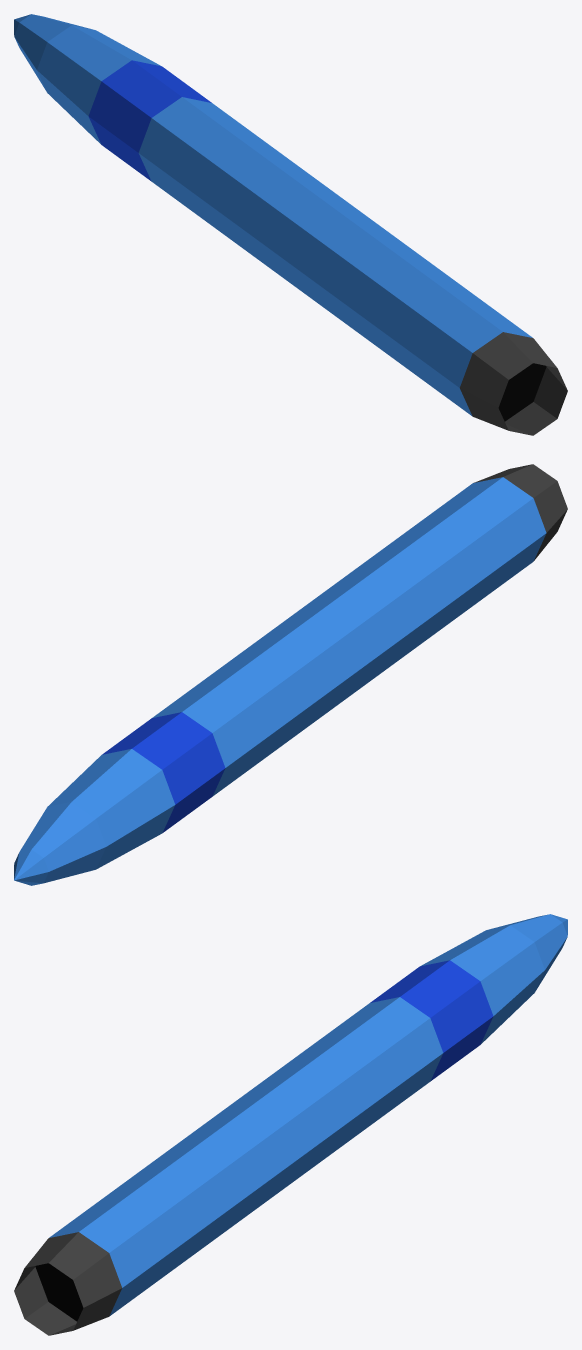
Rendered from weapon.FBX.
3 views of the same model, one above another, from view 1: azimuth 30°, elevation 25°; view 2: azimuth 150°, elevation 25°; view 3: azimuth 330°, elevation 25° (orthographic).
Parts seen in each view (by area): view 1: VIFS001, VIFS003, VIFS002, VIFS004; view 2: VIFS001, VIFS002, VIFS003; view 3: VIFS001, VIFS003, VIFS002, VIFS004.
Boxes of the visible parts, x1=… form: VIFS001: x1=14, y1=14, x2=532, y2=416; VIFS003: x1=460, y1=332, x2=567, y2=435; VIFS002: x1=88, y1=60, x2=211, y2=181; VIFS004: x1=498, y1=363, x2=546, y2=421; VIFS001: x1=14, y1=477, x2=546, y2=885; VIFS002: x1=102, y1=712, x2=225, y2=832; VIFS003: x1=474, y1=464, x2=567, y2=560; VIFS001: x1=49, y1=914, x2=567, y2=1316; VIFS003: x1=14, y1=1232, x2=121, y2=1335; VIFS002: x1=370, y1=960, x2=493, y2=1081; VIFS004: x1=35, y1=1263, x2=83, y2=1321.
Bounding box in the file's own units: 0.1 × 0.1 × 1.04.
